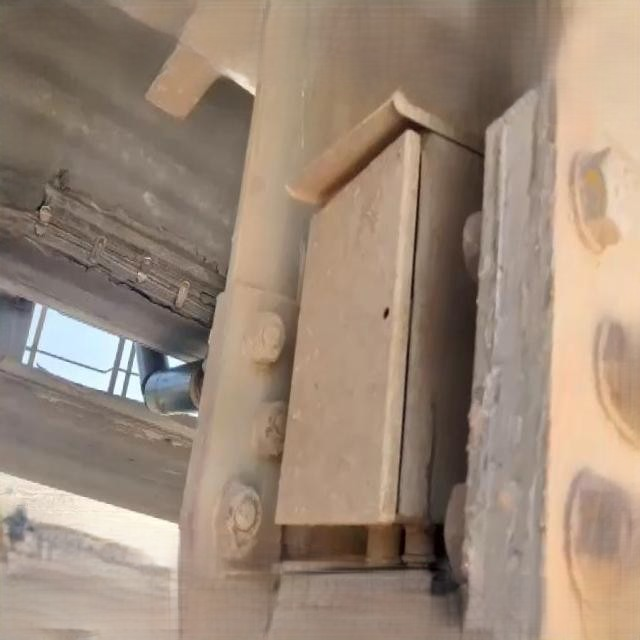Tear: (6, 165, 229, 333)
